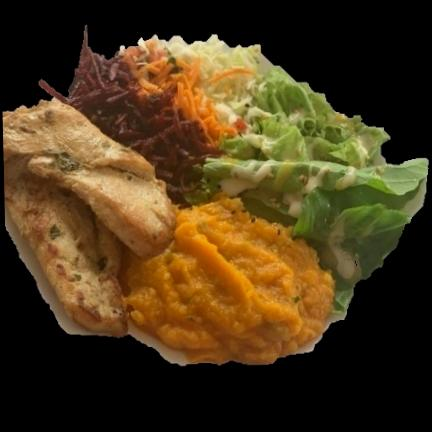beet: (66, 38, 221, 204)
carrot: (123, 41, 237, 145)
chicken: (2, 99, 175, 336)
salad: (203, 66, 428, 311)
